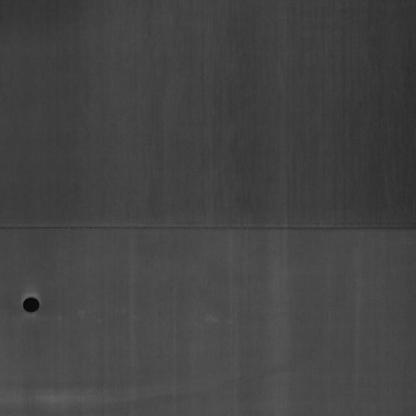punching_hole: (19, 284, 45, 322)
welding_line: (0, 217, 416, 240)
